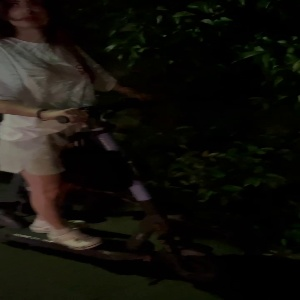human on a scooter: (1, 1, 223, 289)
